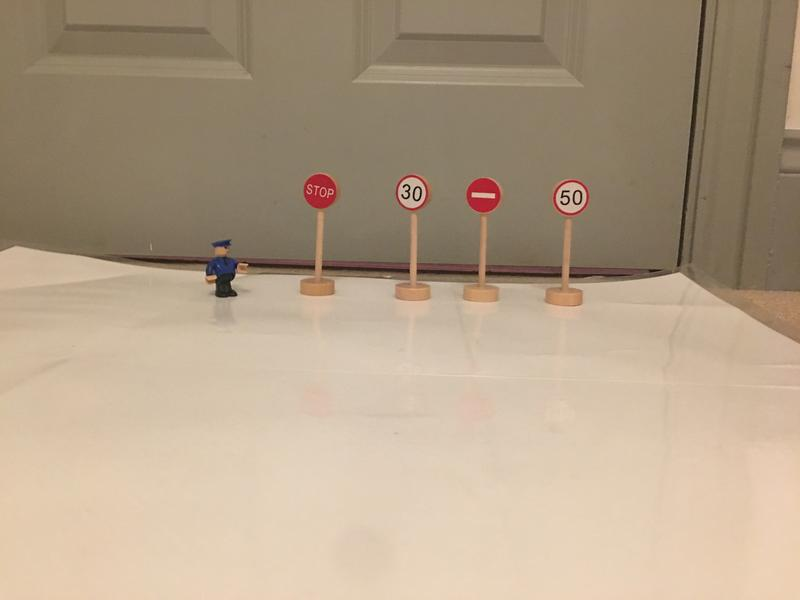Traffic_Sign_30: (395, 175, 429, 210)
Traffic_Sign_50: (554, 180, 589, 216)
Traffic_Sign_No_Entry: (466, 177, 500, 213)
Traffic_Sign_Stop: (304, 173, 337, 209)
person: (204, 237, 251, 301)
